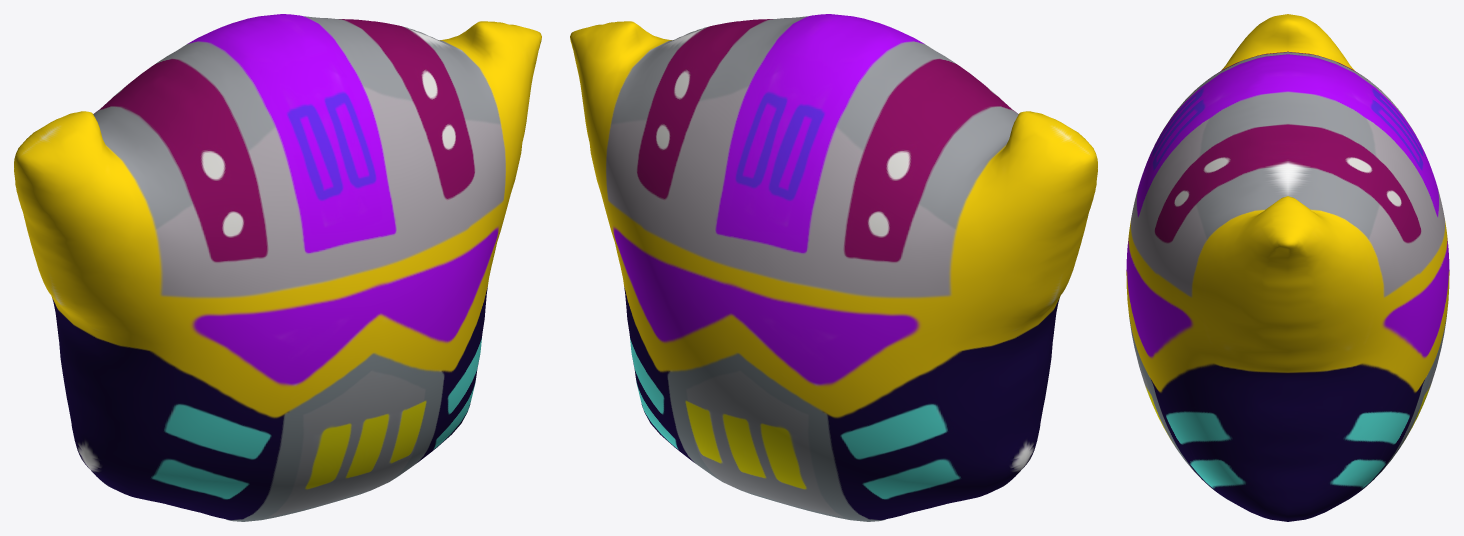
The model's file is robot_face.c53723f8.glb.
3 views of the same model, side by side, from view 1: azimuth 30°, elevation 25°; view 2: azimuth 150°, elevation 25°; view 3: azimuth 270°, elevation 25° (orthographic). The views are drawn at different scales.
Size of the model in its own units: 5.32 by 4.63 by 3.22.
1 material, 1 textured.
